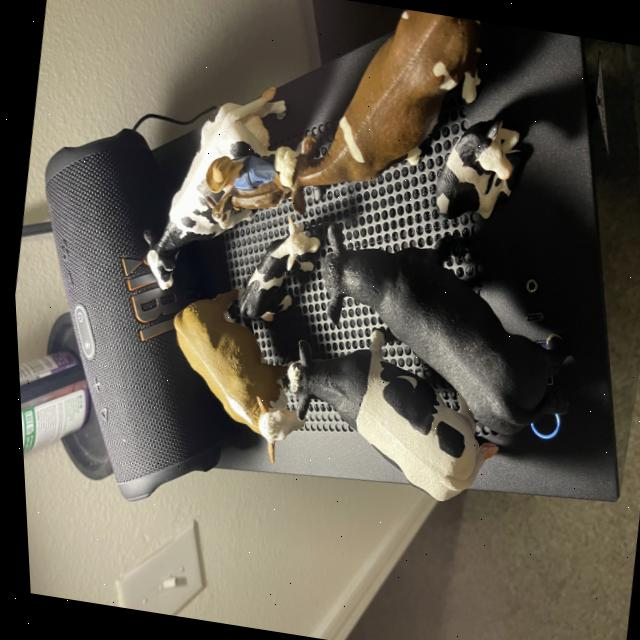cow: (293, 187, 589, 460), (257, 296, 507, 527), (276, 0, 502, 231), (114, 67, 302, 301), (157, 277, 329, 467), (227, 215, 327, 336), (430, 112, 520, 226), (202, 166, 291, 232)
person: (202, 153, 275, 195)
